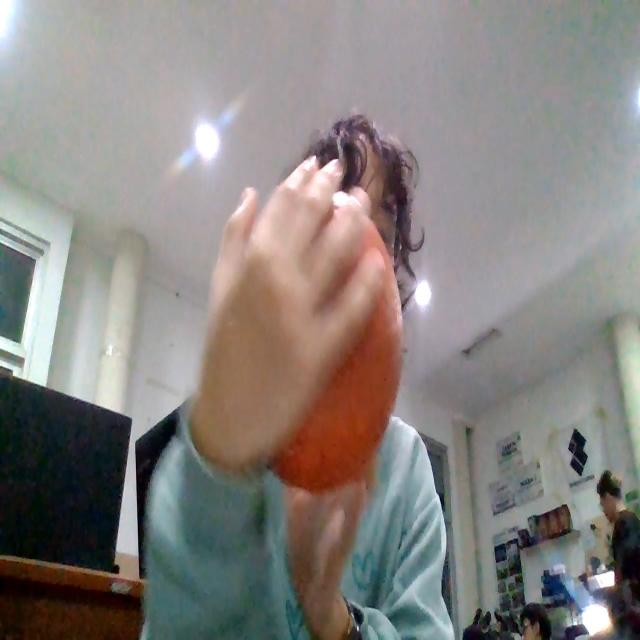ball: (277, 187, 396, 489)
